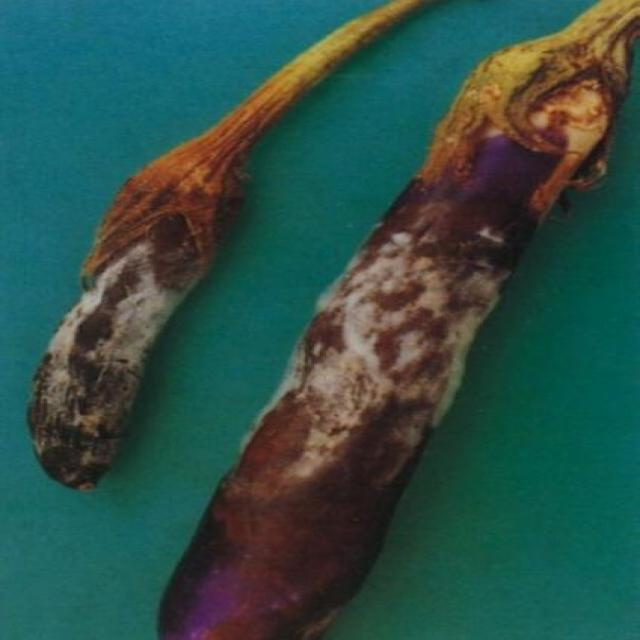Wet Waste: (26, 0, 638, 639)
